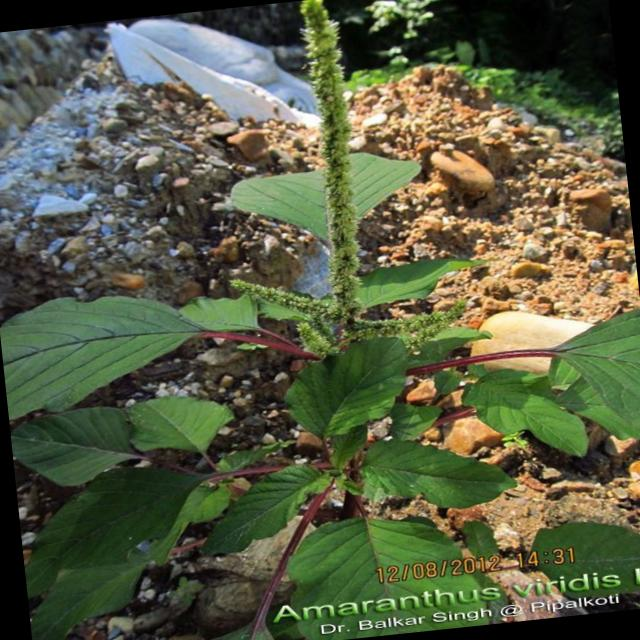Medicinal-Arive Dantu: (11, 248, 420, 485), (381, 312, 640, 485), (272, 8, 393, 268)
